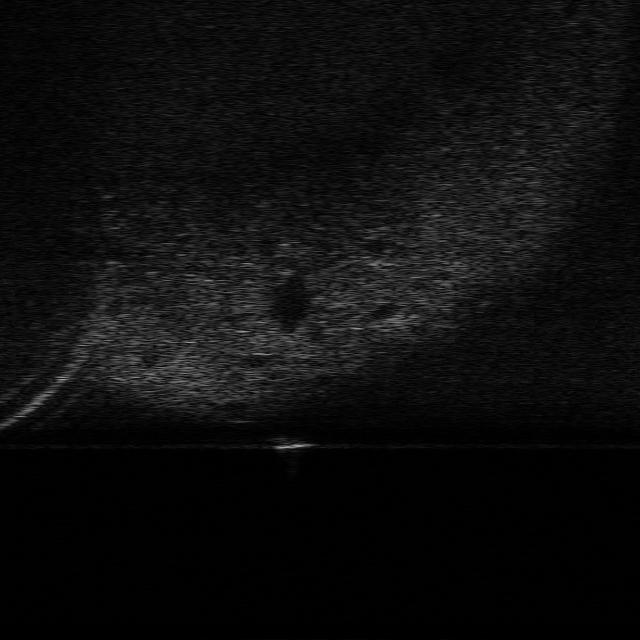cube: (267, 436, 325, 450)
